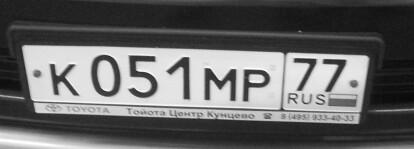license-plateSW: (19, 43, 374, 112)
